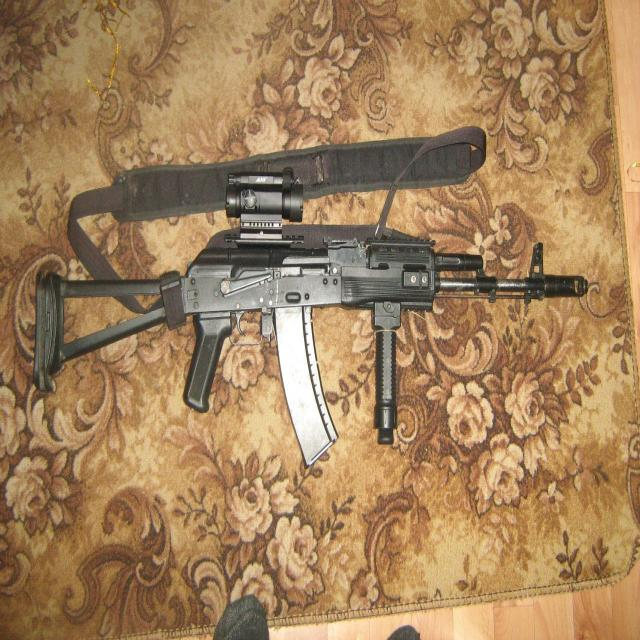firearm: (32, 169, 590, 472)
